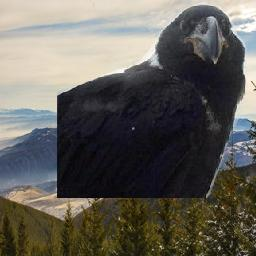Crow: (58, 2, 249, 198)
